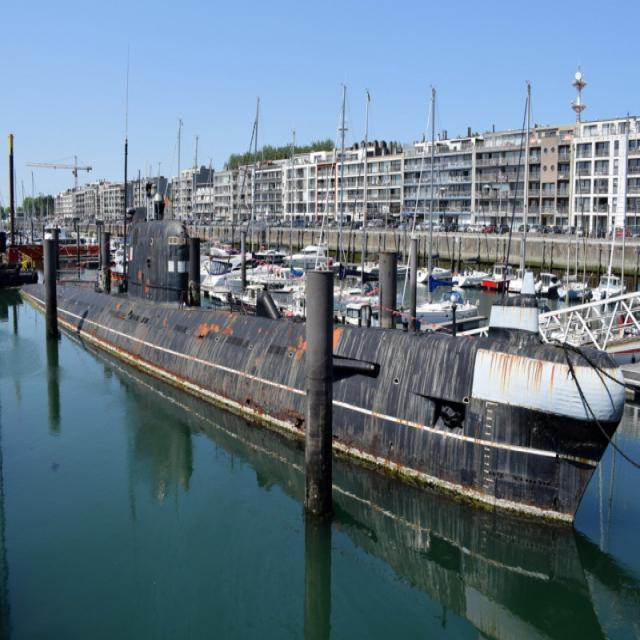submarine: (19, 220, 622, 540)
